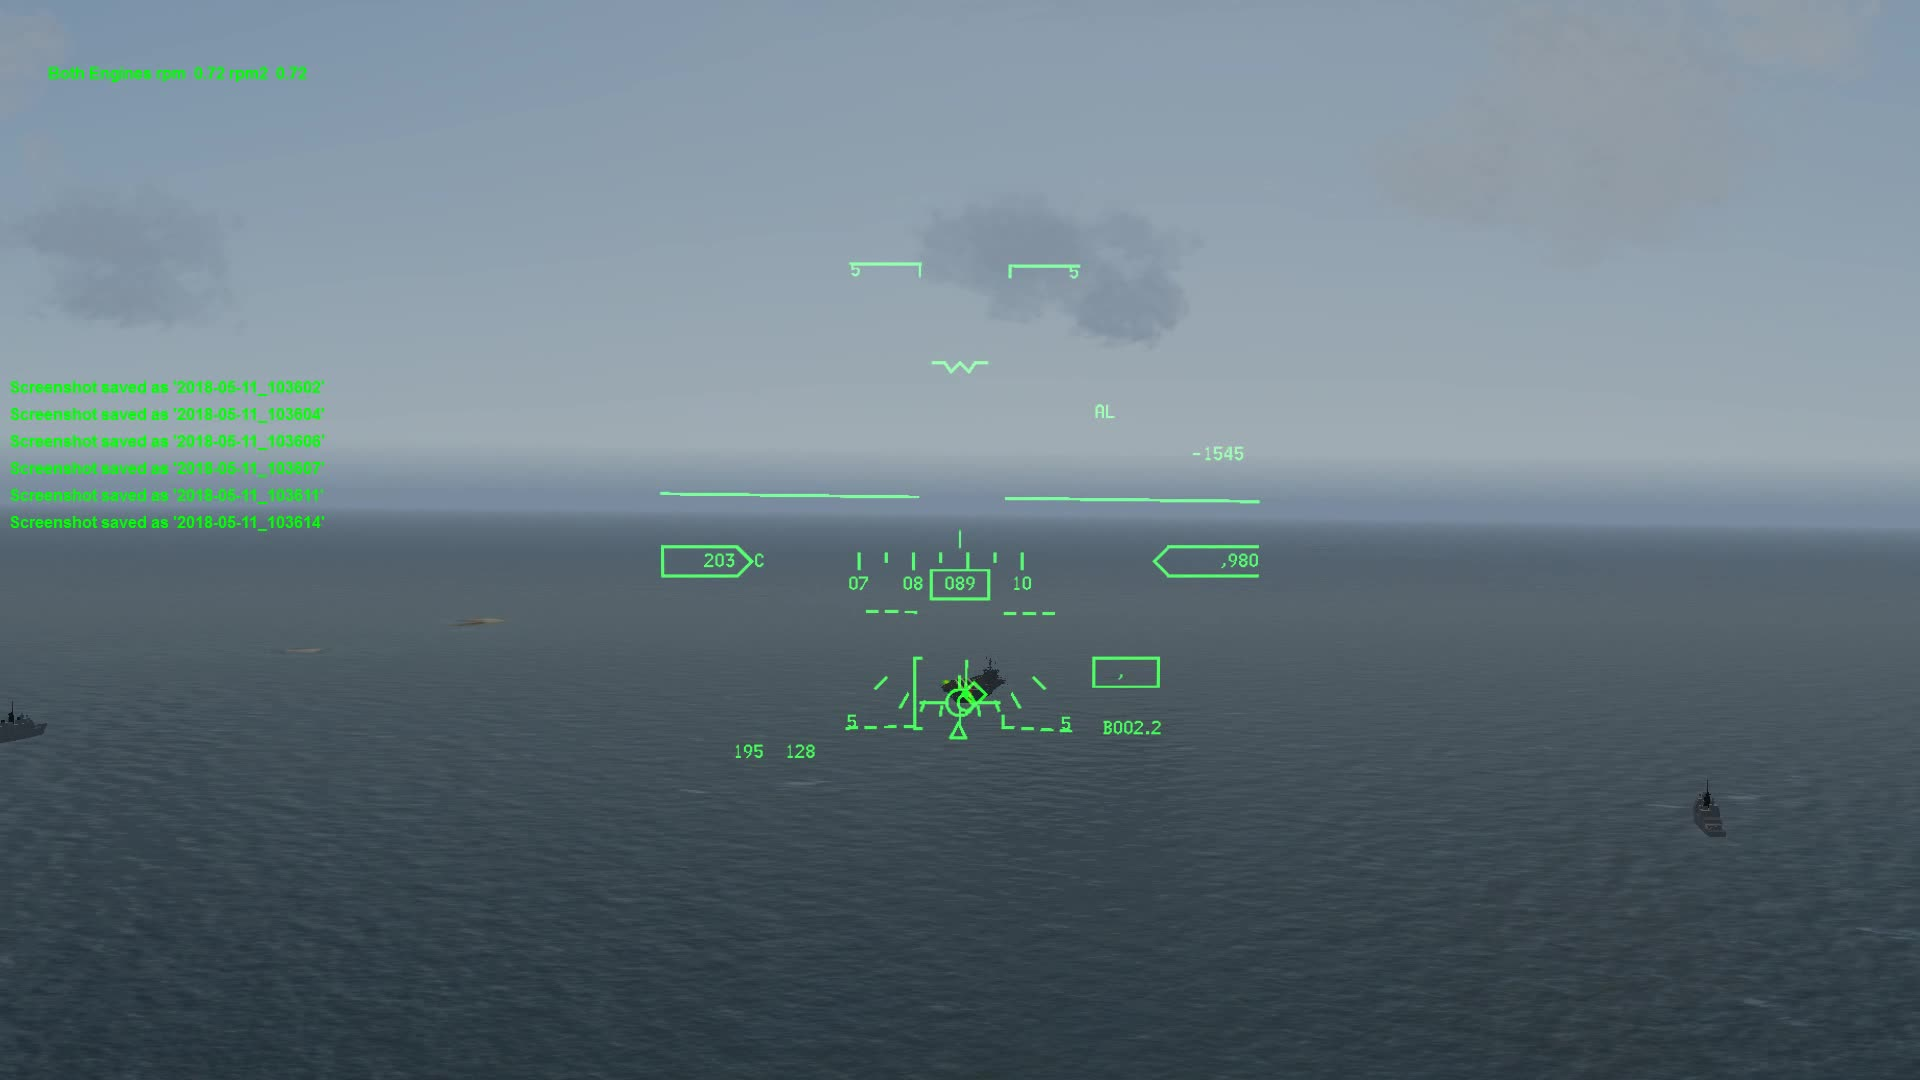speed vector: (945, 682, 985, 724)
